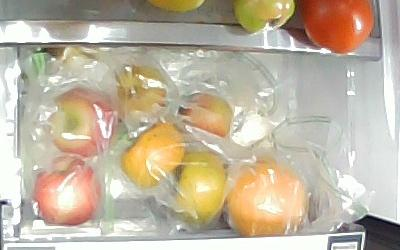apple_vinyl: (46, 86, 117, 159), (35, 155, 102, 228)
grapefruit_vinyl: (225, 161, 306, 238)
persimmon_vinyl: (120, 120, 185, 189), (175, 152, 227, 221)
prune_vinyl: (106, 64, 168, 117), (176, 92, 233, 138)
